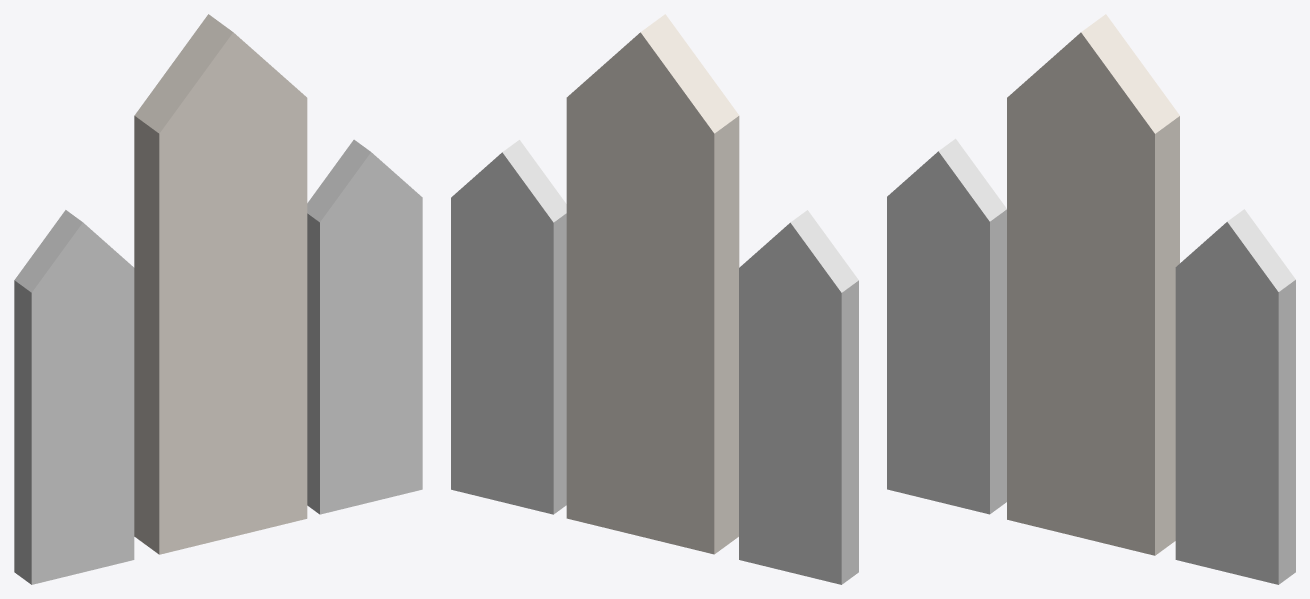
The model's file is Barda.fbx.
3 views of the same model, side by side, from view 1: azimuth 30°, elevation 25°; view 2: azimuth 150°, elevation 25°; view 3: azimuth 330°, elevation 25° (orthographic).
Visible parts, largest first — view 1: Cube; view 2: Cube; view 3: Cube.
Boxes of the visible parts, x1,y1,x2,y2 form: Cube: (14,14,422,584); Cube: (451,14,858,584); Cube: (887,14,1295,584).
Bounding box in the file's own units: 288 × 357 × 31.79.
3 materials, 1 textured.
